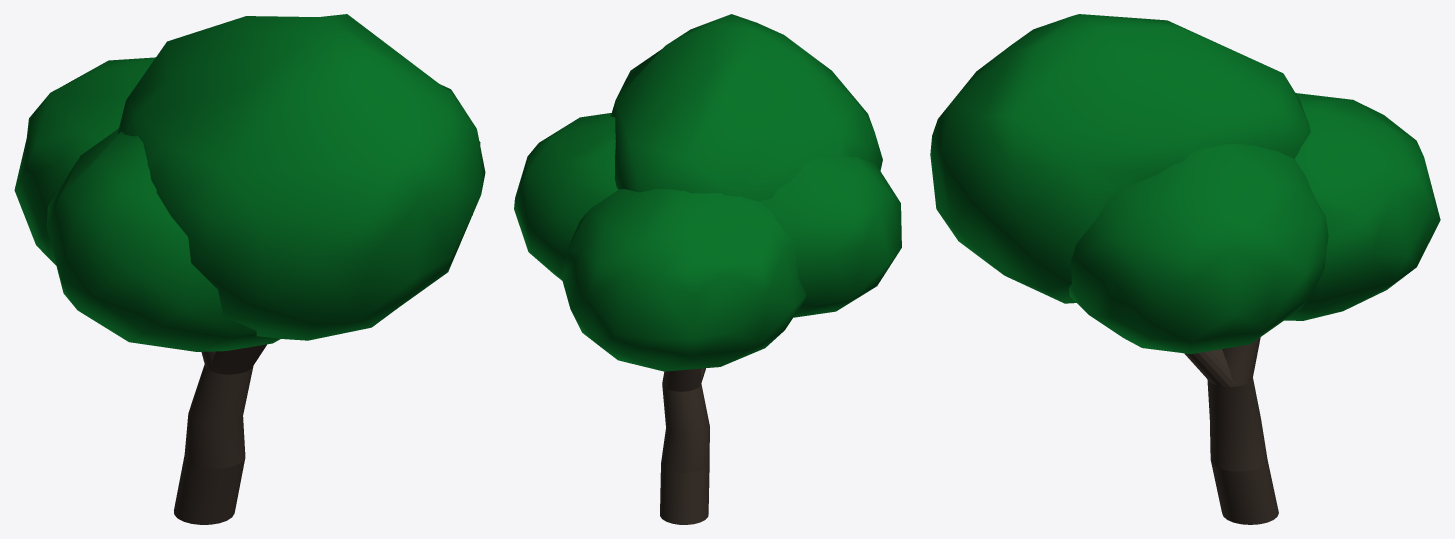
The model's file is Tree3.fbx.
The picture shows the model from 3 angles, left to right: view 1: azimuth 30°, elevation 25°; view 2: azimuth 150°, elevation 25°; view 3: azimuth 270°, elevation 25°; orthographic projection. The views are drawn at different scales.
Visible parts, largest first — view 1: Tree3; view 2: Tree3; view 3: Tree3.
Boxes of the visible parts, bbox=[...] form: Tree3: bbox=[14, 14, 485, 524]; Tree3: bbox=[514, 14, 901, 524]; Tree3: bbox=[930, 14, 1440, 524].
Size of the model in its own units: 16.18 by 19.61 by 17.94.
